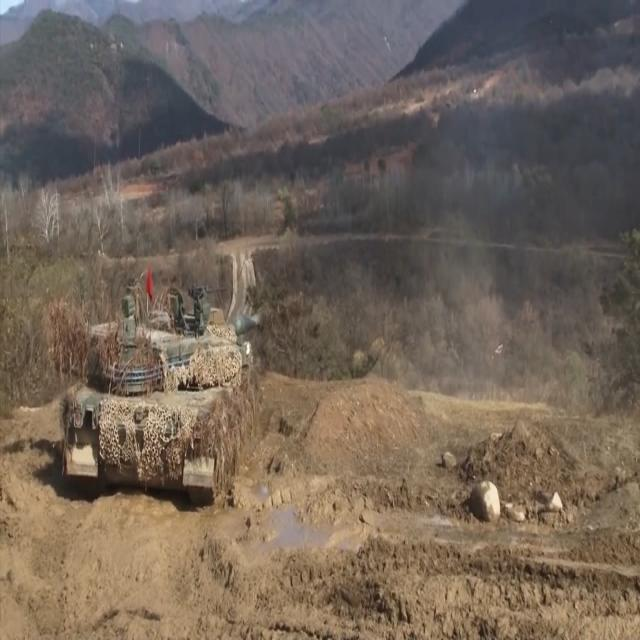korea tank: (48, 282, 306, 512)
